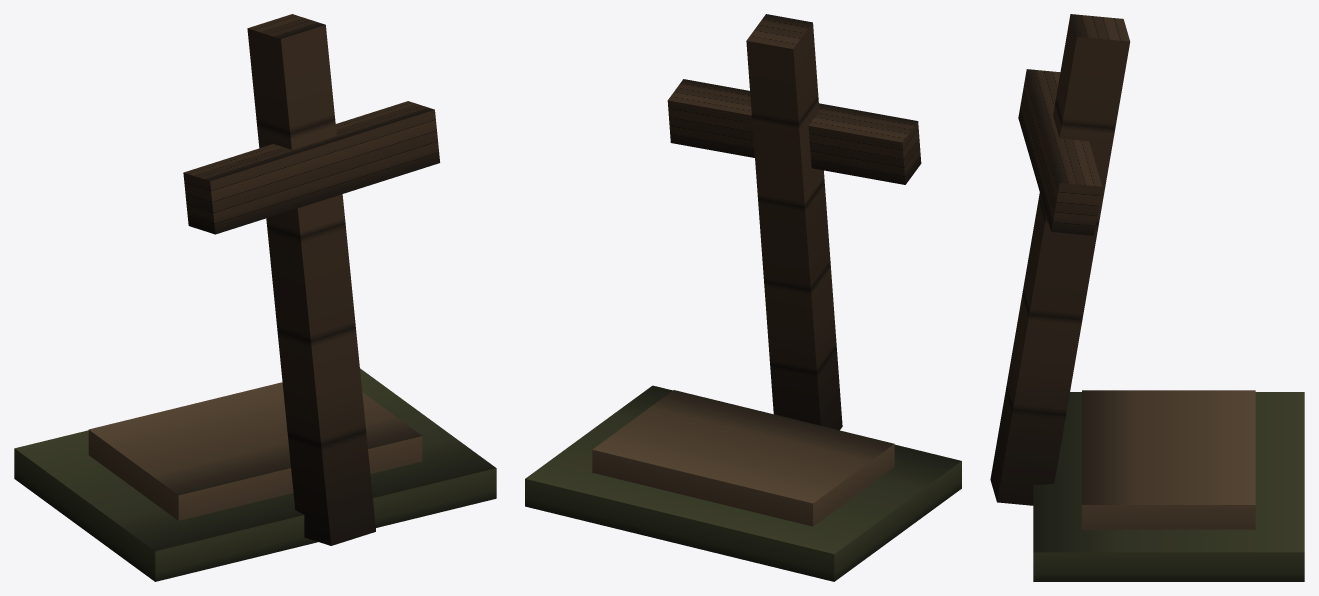
Rendered from grave_cross.fbx.
3 views of the same model, side by side, from view 1: azimuth 30°, elevation 25°; view 2: azimuth 150°, elevation 25°; view 3: azimuth 270°, elevation 25° (orthographic). The views are drawn at different scales.
Visible parts, largest first — view 1: grave_cross; view 2: grave_cross; view 3: grave_cross.
Boxes of the visible parts, box(x1,y1,x2,y2) form: grave_cross: box(14, 14, 496, 581); grave_cross: box(525, 14, 961, 581); grave_cross: box(990, 14, 1304, 581).
Bounding box in the file's own units: 70 × 96.7 × 57.89.
1 material, 1 textured.
